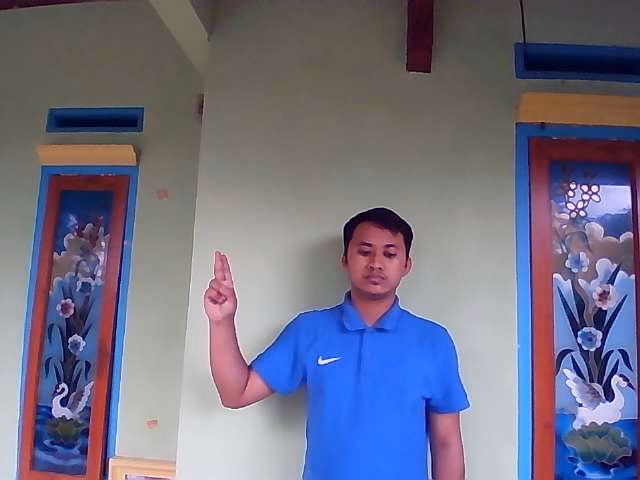U: (202, 249, 238, 322)
